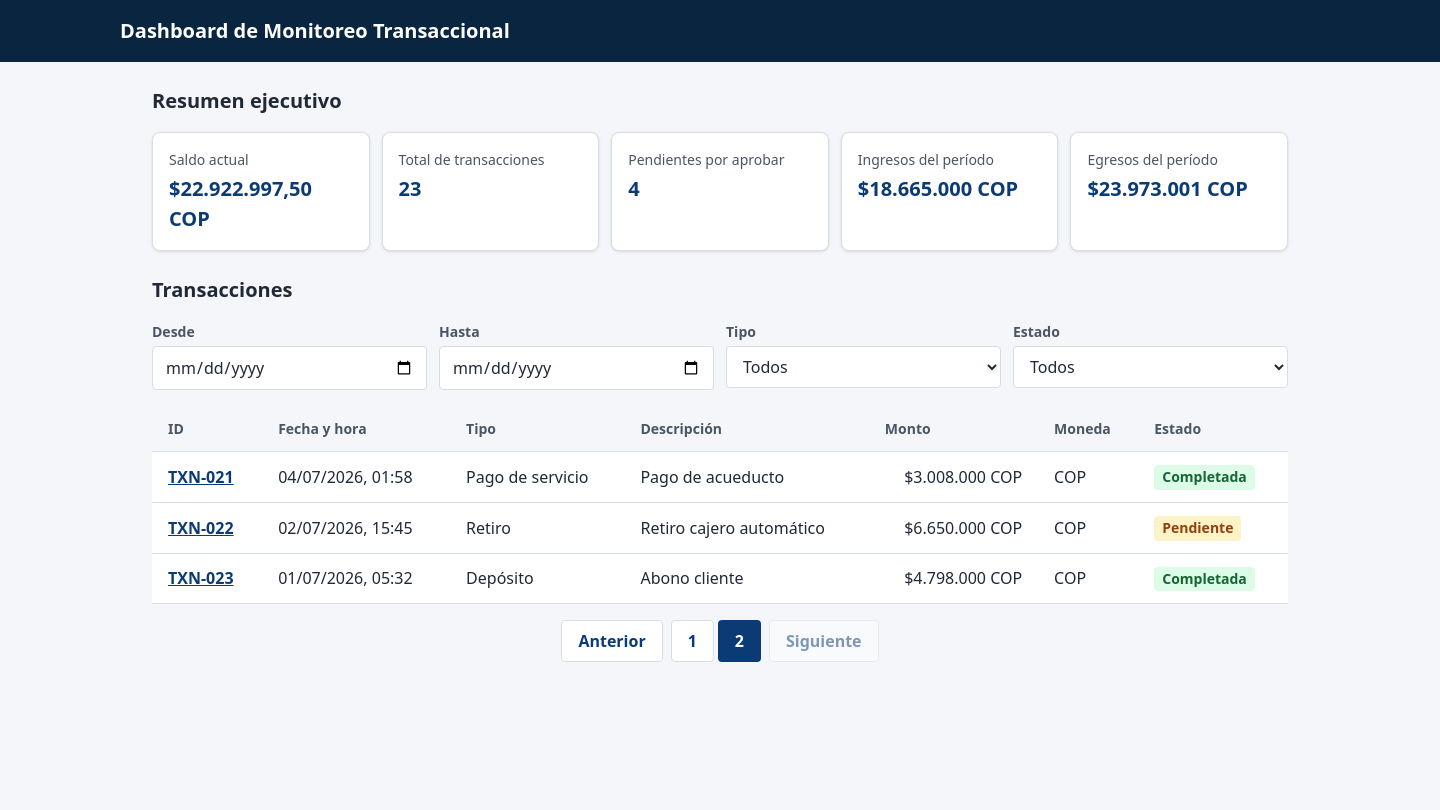
Test: DashboardPage (integración) › un clic en una fila abre el detalle y Esc lo cierra conservando la página
The image size is (1440, 810).
Click the link "TXN-021" at point(201, 477), box [168,466,234,488]
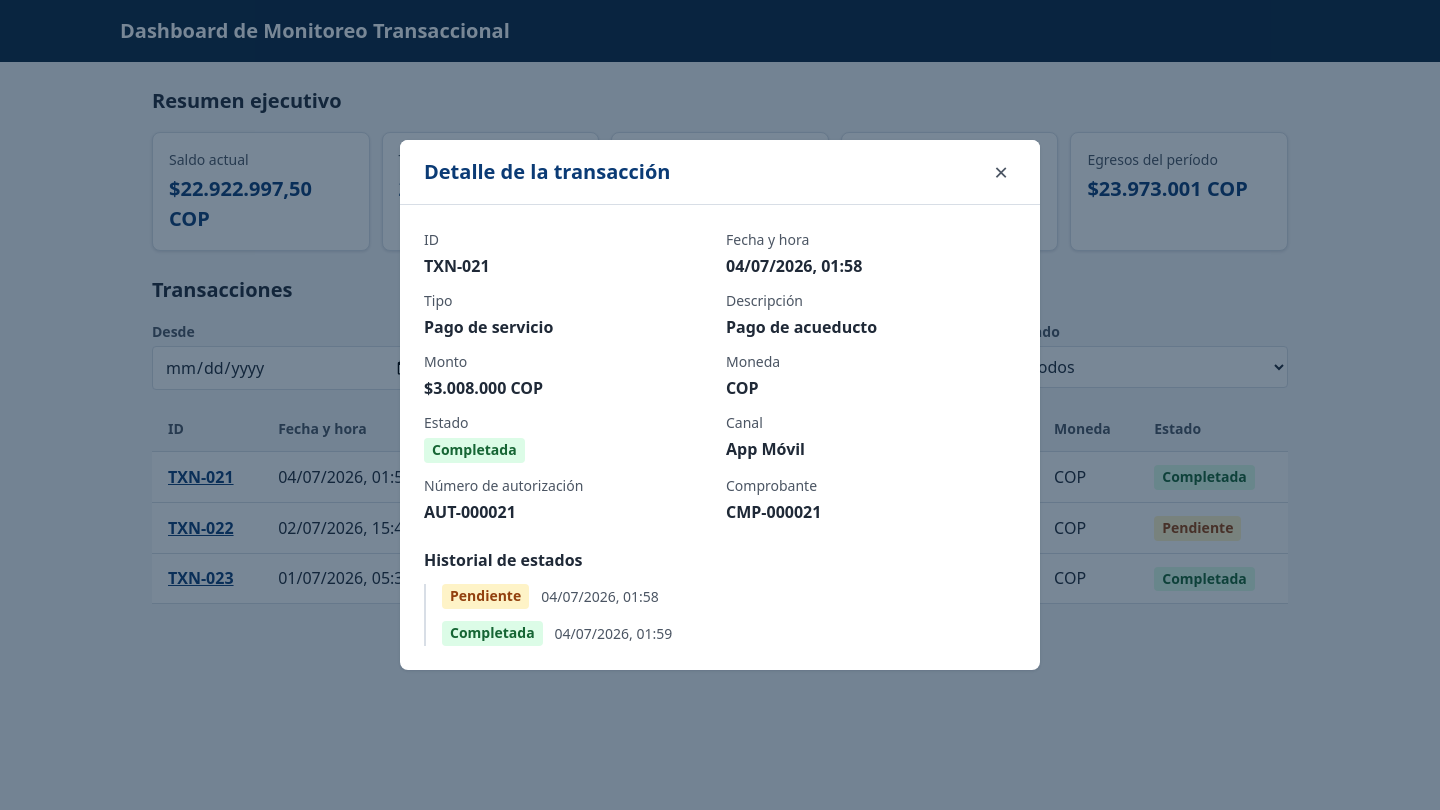
Expected: the text "Canal" is shown, [726,413,763,432]
Press Escape
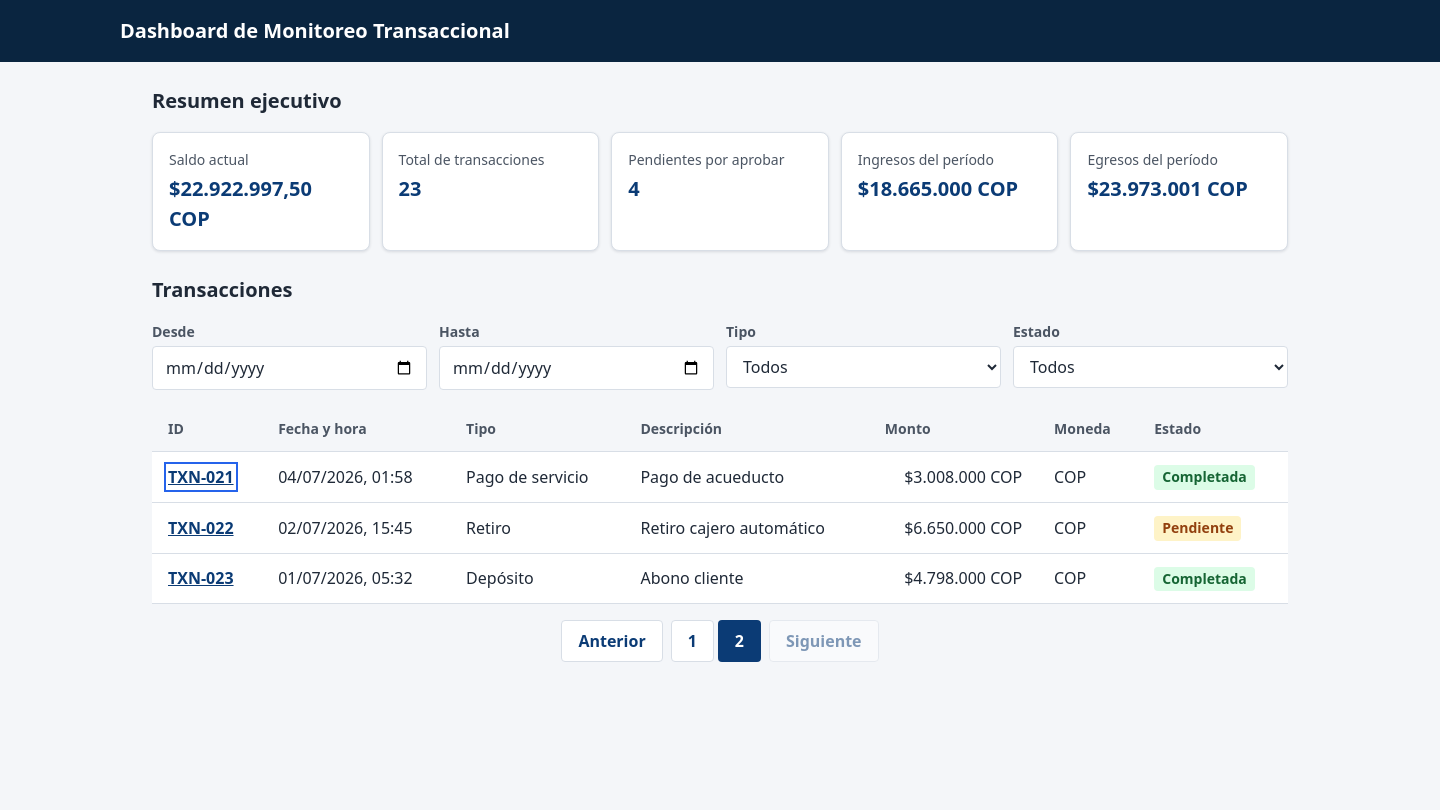
Expected: the number of links is 3, [168,466,234,488]; [168,517,234,539]; [168,568,234,590]
Expected: the dialog is gone
